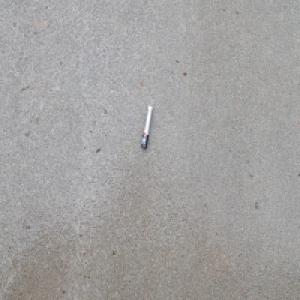Battery: (140, 103, 153, 150)
